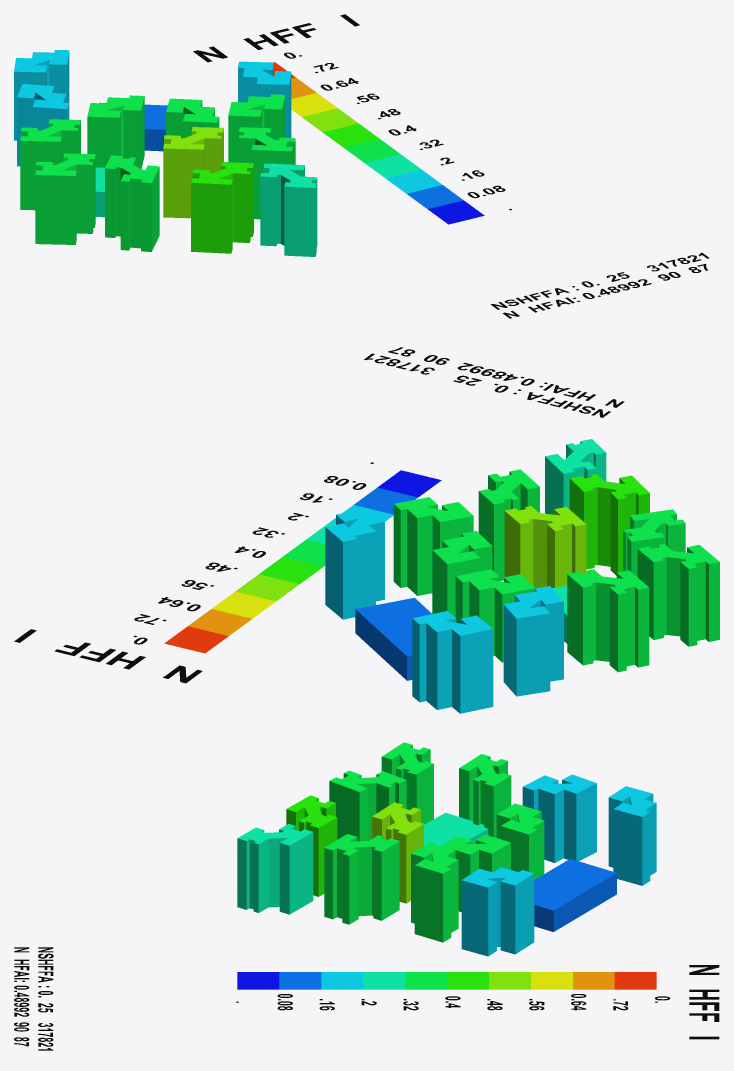
The model's file is punggol_luse101_nshfavi2.dae.
The picture shows the model from 3 angles, top to bottom: view 1: azimuth 30°, elevation 25°; view 2: azimuth 150°, elevation 25°; view 3: azimuth 270°, elevation 25°; orthographic projection. The views are drawn at different scales.
Parts seen in each view (by area): view 1: node0 (×15); view 2: node0 (×15); view 3: node0 (×17).
Boxes of the visible parts, <box> form: node0 (×15): <box>14,14,709,318</box>; node0 (×15): <box>14,347,719,713</box>; node0 (×17): <box>14,742,719,1050</box>.
Size of the model in its own units: 366 by 446 by 48.
